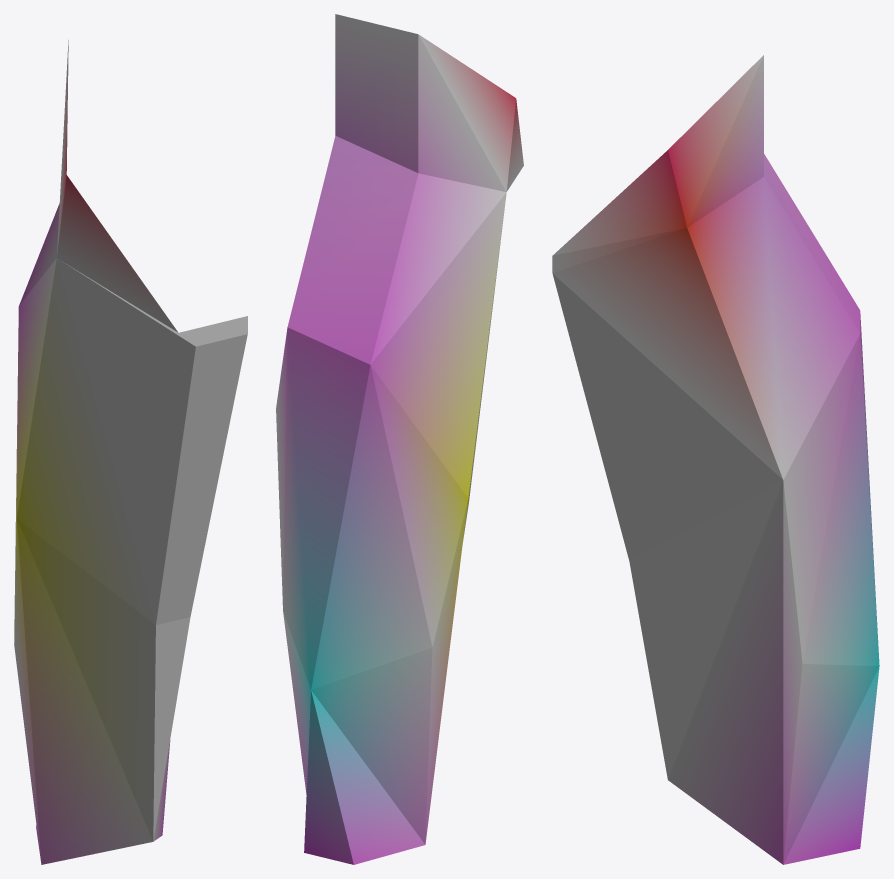
3 views of the same model, side by side, from view 1: azimuth 30°, elevation 25°; view 2: azimuth 150°, elevation 25°; view 3: azimuth 270°, elevation 25° (orthographic). The views are drawn at different scales.
Parts seen in each view (by area): view 1: model_11A0; view 2: model_11A0; view 3: model_11A0.
Boxes of the visible parts, <box> form: model_11A0: <box>14,40,247,864</box>; model_11A0: <box>276,14,523,864</box>; model_11A0: <box>552,55,879,864</box>.
Size of the model in its own units: 11 by 46 by 17.
